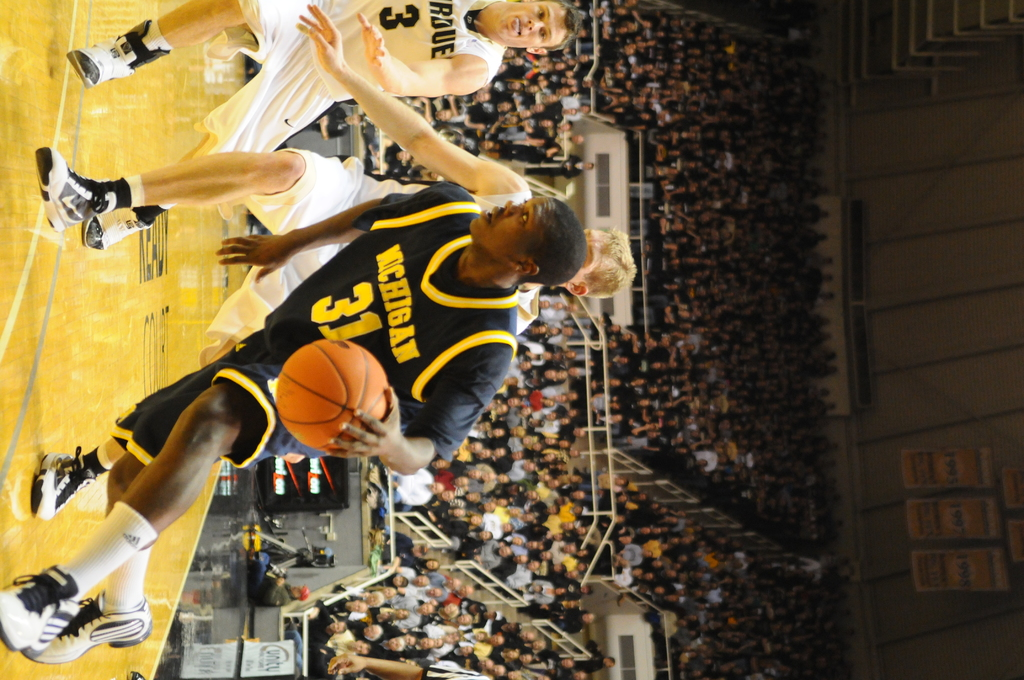Ball: (273, 337, 394, 447)
